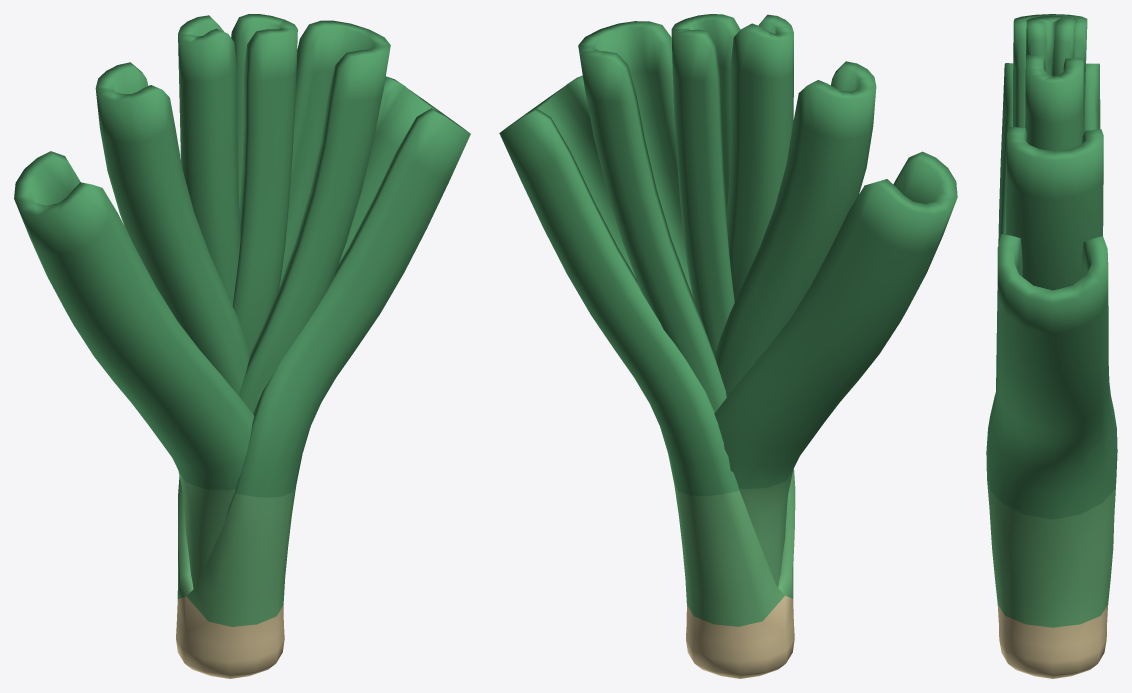
Rendered from Leek_03.dae.
3 views of the same model, side by side, from view 1: azimuth 30°, elevation 25°; view 2: azimuth 150°, elevation 25°; view 3: azimuth 270°, elevation 25° (orthographic). The views are drawn at different scales.
Visible parts, largest first — view 1: Leek_03_LOD0; view 2: Leek_03_LOD0; view 3: Leek_03_LOD0.
Boxes of the visible parts, box(x1,y1,x2,y2) form: Leek_03_LOD0: box(14, 14, 470, 678); Leek_03_LOD0: box(499, 14, 957, 678); Leek_03_LOD0: box(986, 14, 1117, 678).
Size of what is drawn, in the model's own units: 6 by 1.58 by 8.4.
